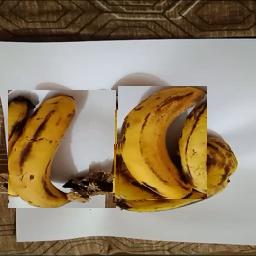Banana Semifresh: (8, 90, 116, 208), (118, 86, 207, 199), (89, 93, 147, 204)
